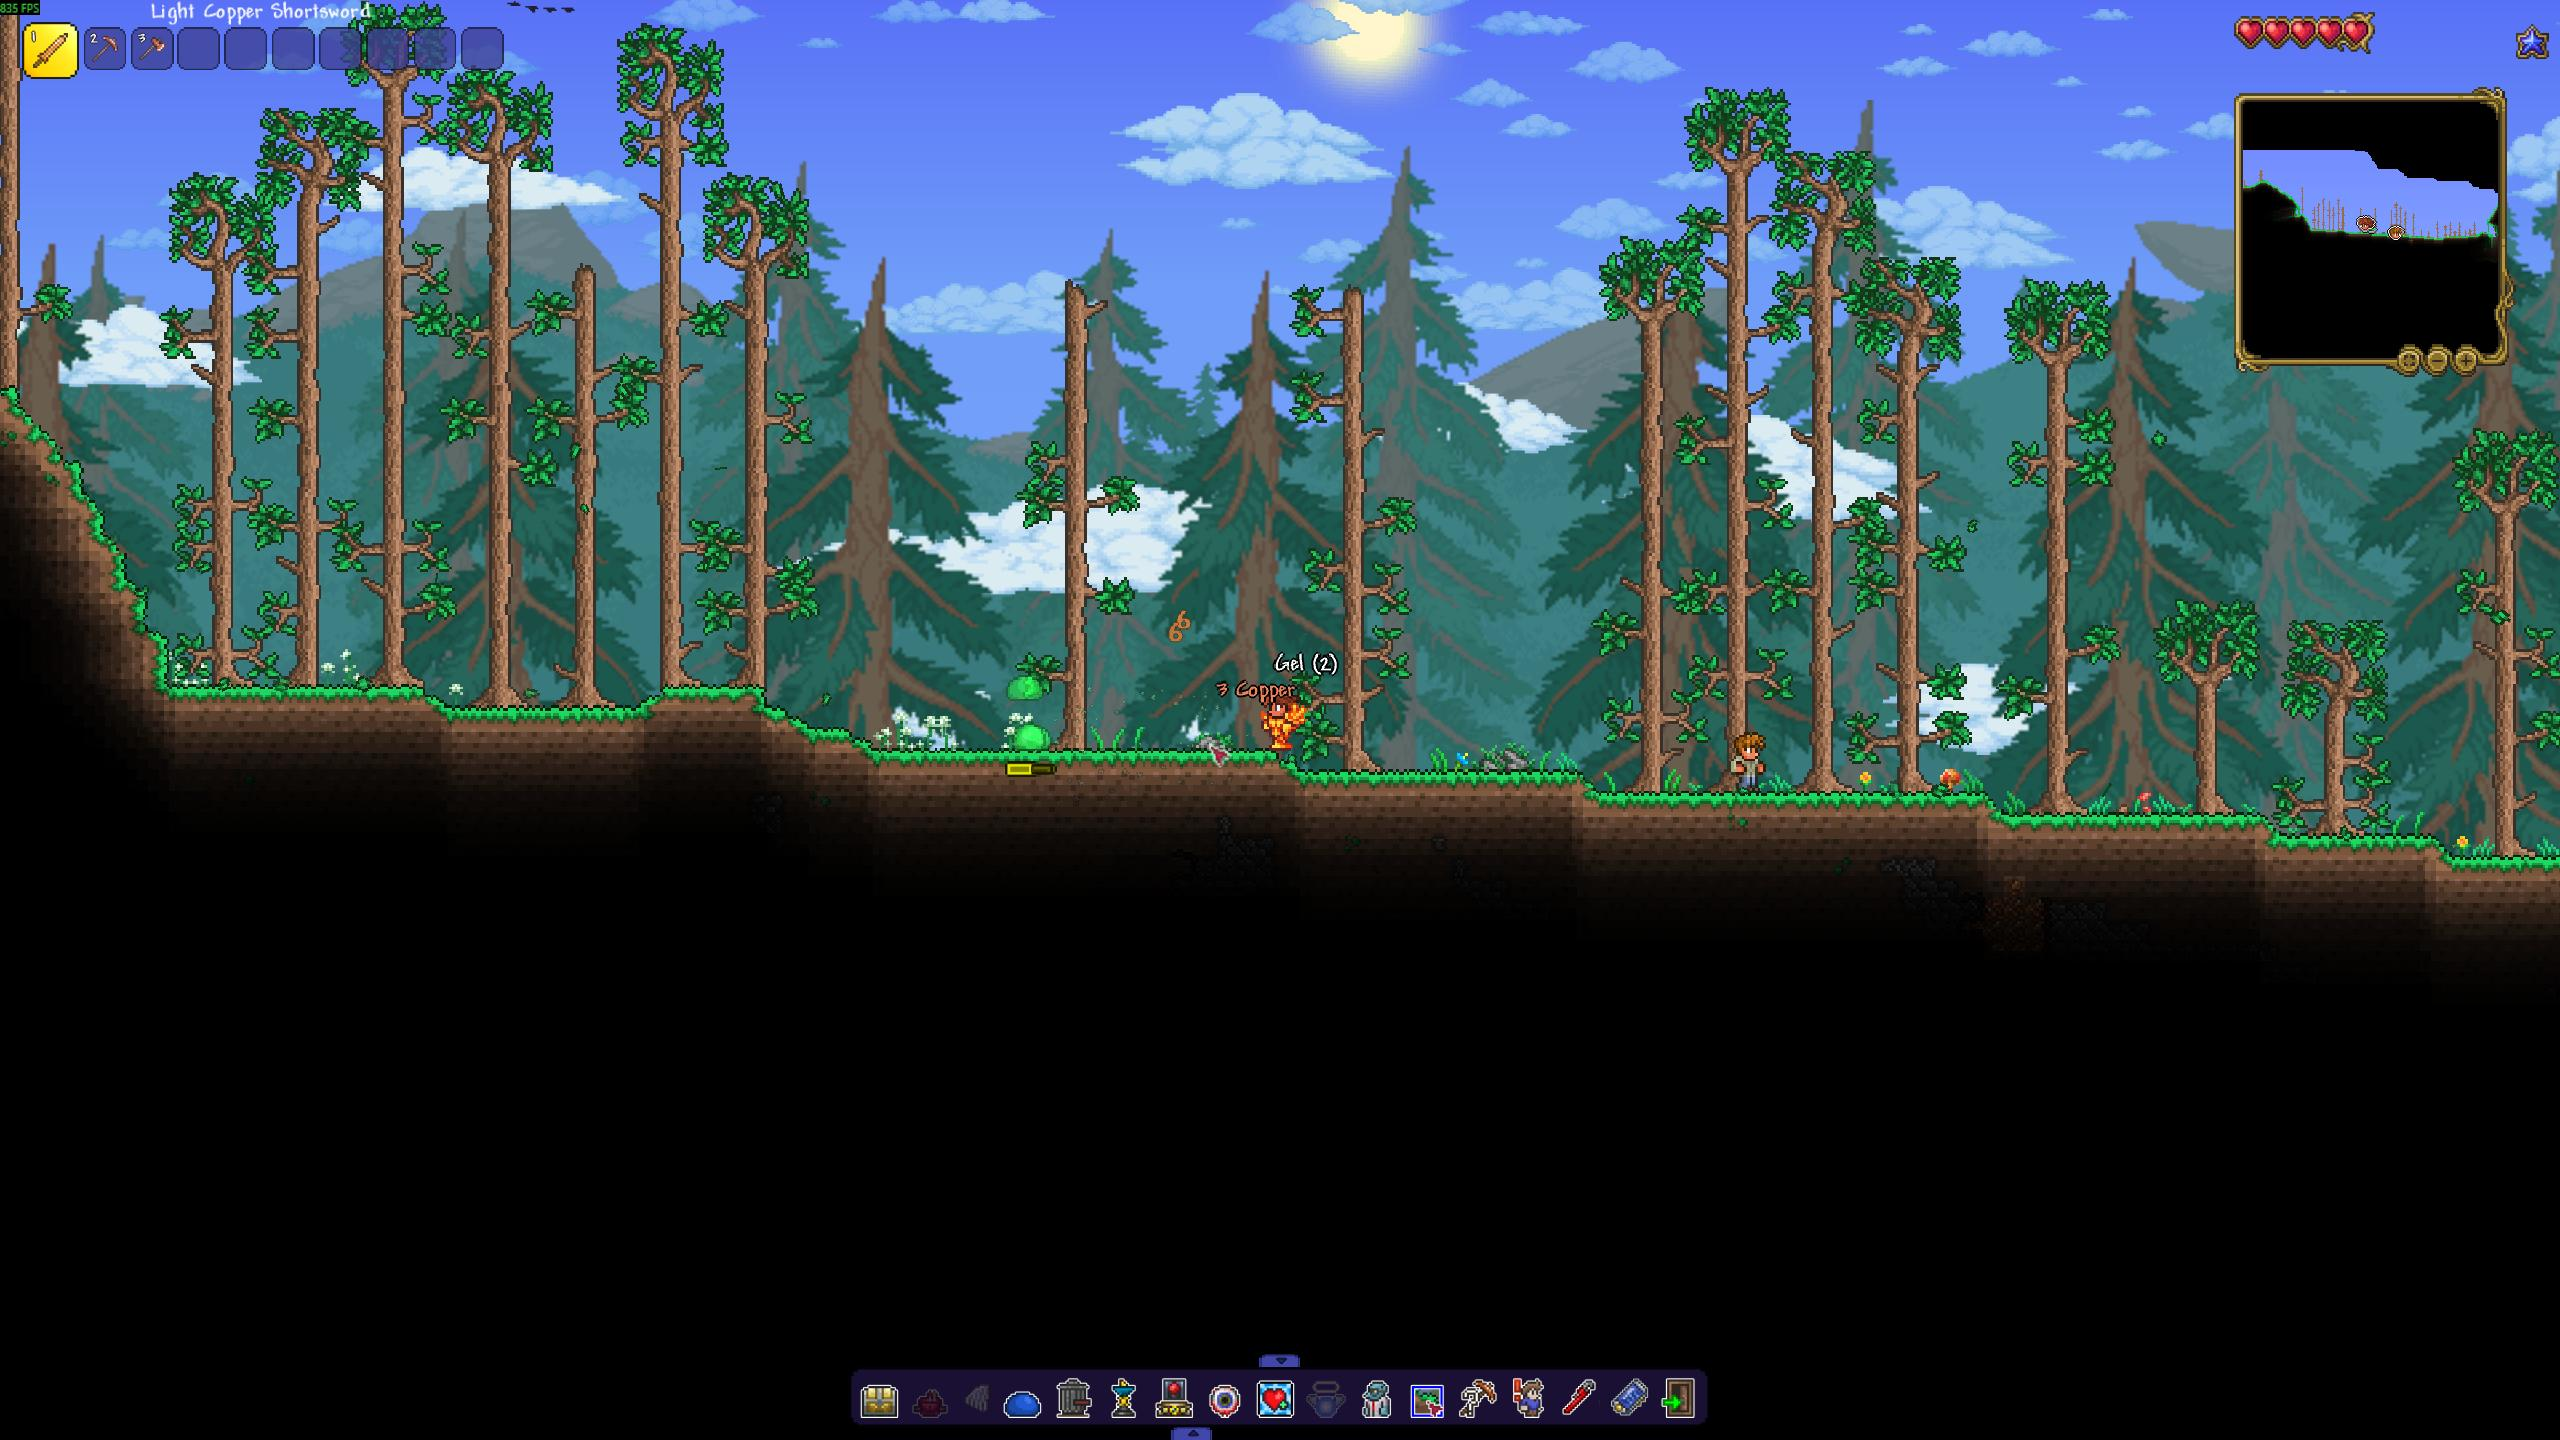Green Slime: (1011, 723, 1046, 753), (1006, 675, 1043, 702)
